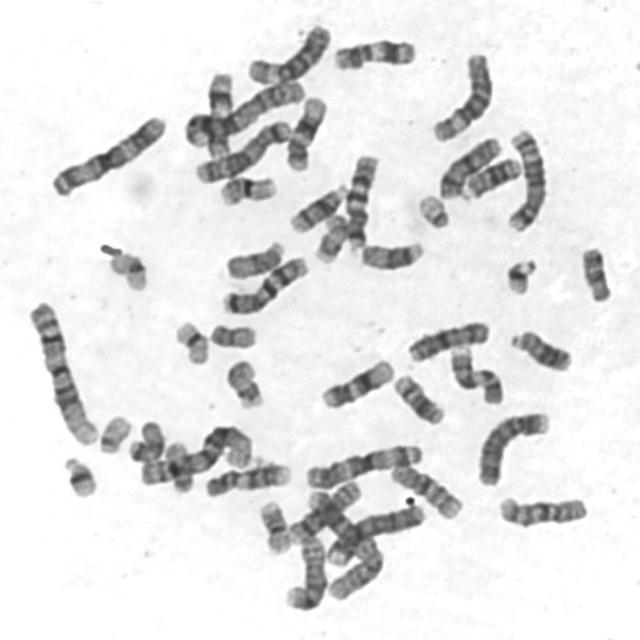A1: (23, 294, 100, 447), (134, 417, 256, 486)
A2: (300, 482, 386, 602), (177, 72, 308, 150)
A3: (43, 107, 170, 198), (299, 436, 427, 491)
B4: (319, 497, 428, 567), (471, 402, 554, 488)
B5: (190, 113, 294, 184), (500, 121, 550, 234)
C10: (384, 456, 466, 522), (492, 488, 591, 530)
C11: (327, 31, 420, 72), (200, 64, 236, 159)
C12: (315, 352, 397, 410), (281, 89, 329, 172)
C6: (425, 45, 496, 143), (241, 17, 334, 86)
C7: (215, 248, 311, 317), (338, 147, 381, 253)
C8: (282, 472, 365, 544), (278, 526, 329, 612)
C9: (198, 455, 294, 500), (444, 339, 506, 407)
D13: (503, 322, 575, 374), (455, 150, 524, 201)
D14: (282, 176, 350, 234), (386, 368, 448, 427)
D15: (218, 234, 288, 280), (354, 234, 427, 272)
E16: (213, 168, 280, 207), (253, 494, 293, 555)
E17: (218, 353, 266, 410), (308, 208, 351, 265)
E18: (574, 238, 616, 304), (122, 414, 167, 463)
F19: (168, 314, 212, 366), (103, 245, 150, 293)
F20: (159, 434, 196, 495), (204, 317, 259, 350)
G21: (56, 448, 100, 500), (499, 250, 539, 296)
G22: (92, 407, 134, 455), (412, 187, 453, 230)
X: (432, 129, 504, 200), (401, 314, 493, 364)
